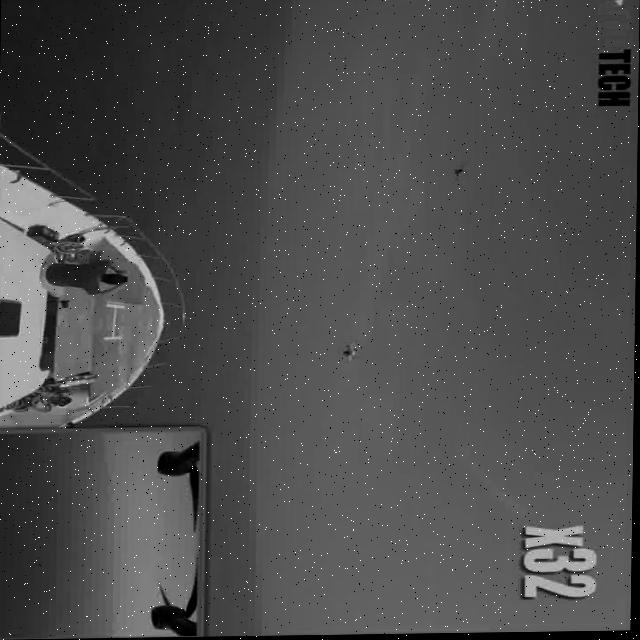drone: (319, 335, 367, 373), (444, 159, 476, 184)
